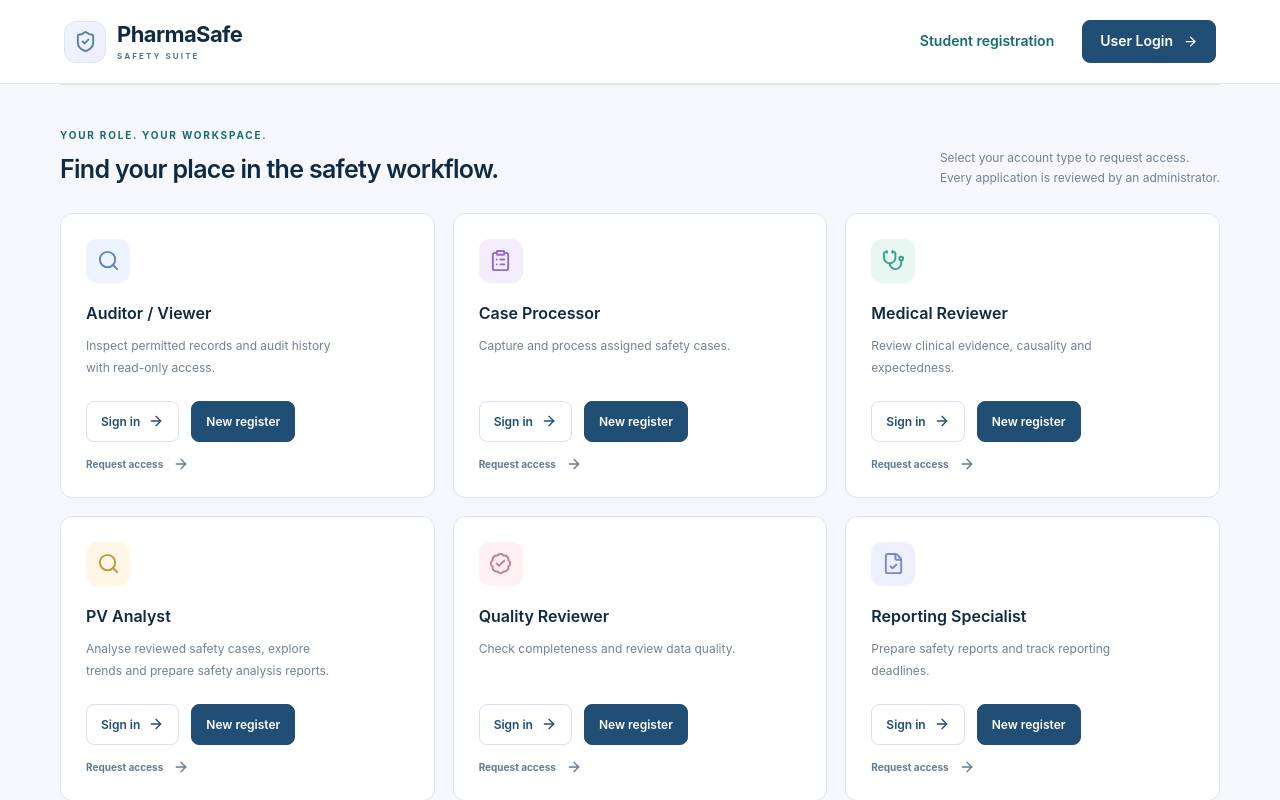
Test: dedicated role access pages › opens the selected role registration directly from the legacy staff catalog
Click the link with aria-label "New registration for Medical Reviewer". click: click(1029, 421)
box: [977,400,1080,442]
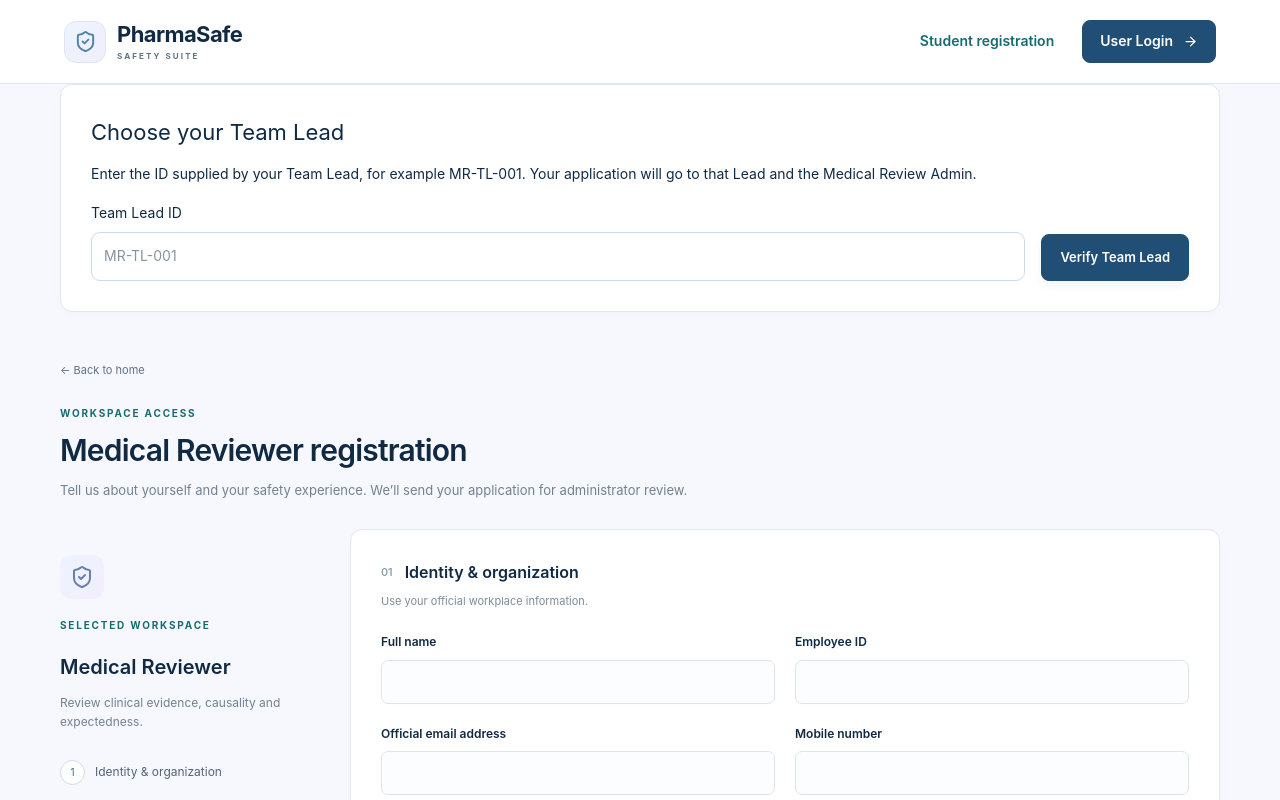
Result: the heading "Medical Reviewer registration" is shown at [60,432,467,468]
